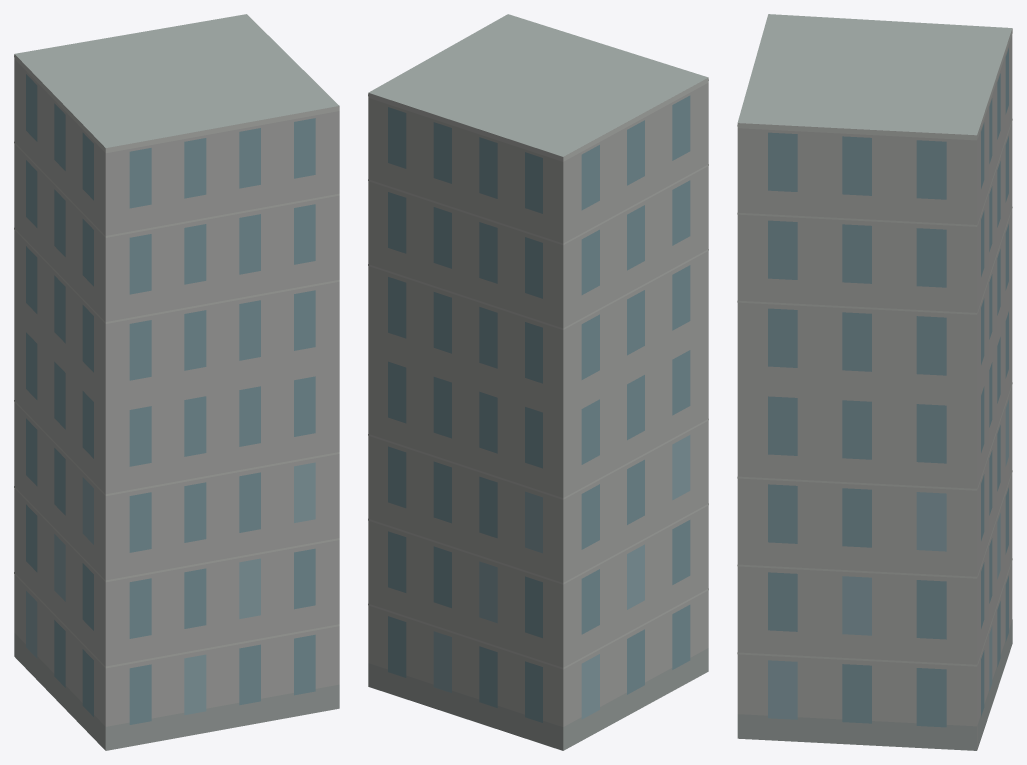
Rendered from survey-upis-32827712.glb.
3 renders of one model, left to right at view 1: azimuth 30°, elevation 25°; view 2: azimuth 150°, elevation 25°; view 3: azimuth 270°, elevation 25°, orthographic. The views are drawn at different scales.
Visible parts, largest first — view 1: survey-upis-32827712.tmp; view 2: survey-upis-32827712.tmp; view 3: survey-upis-32827712.tmp.
Part boxes in pixels (x1,y1,x2,y2): survey-upis-32827712.tmp: (14, 14, 339, 750); survey-upis-32827712.tmp: (368, 14, 708, 750); survey-upis-32827712.tmp: (737, 14, 1012, 750).
Bounding box in the file's own units: 12.19 × 28.8 × 11.69.
